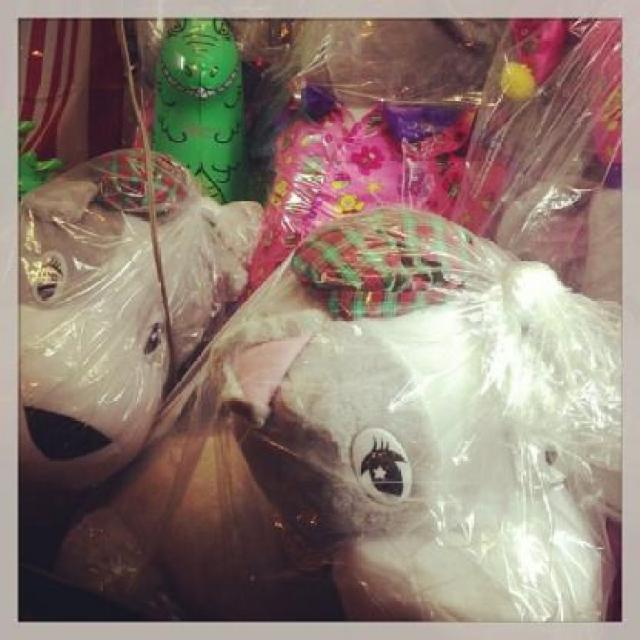plastic bag: (17, 18, 628, 617)
